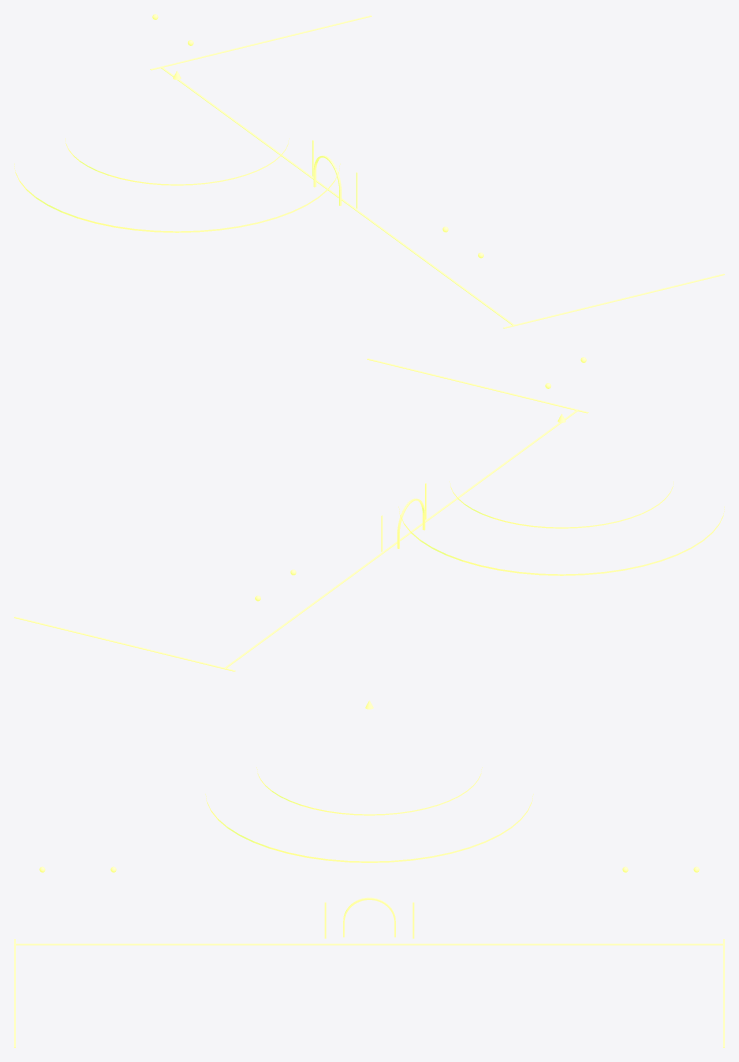
Rendered from neon.glb.
3 views of the same model, one above another, from view 1: azimuth 30°, elevation 25°; view 2: azimuth 150°, elevation 25°; view 3: azimuth 270°, elevation 25° (orthographic).
Visible parts, largest first — view 1: geometry_0; view 2: geometry_0; view 3: geometry_0.
Boxes of the visible parts, x1,y1,x2,y2 form: geometry_0: [14, 14, 724, 328]; geometry_0: [14, 357, 724, 671]; geometry_0: [14, 700, 724, 1047].
Size of the model in its own units: 83.55 by 25.78 by 100.
